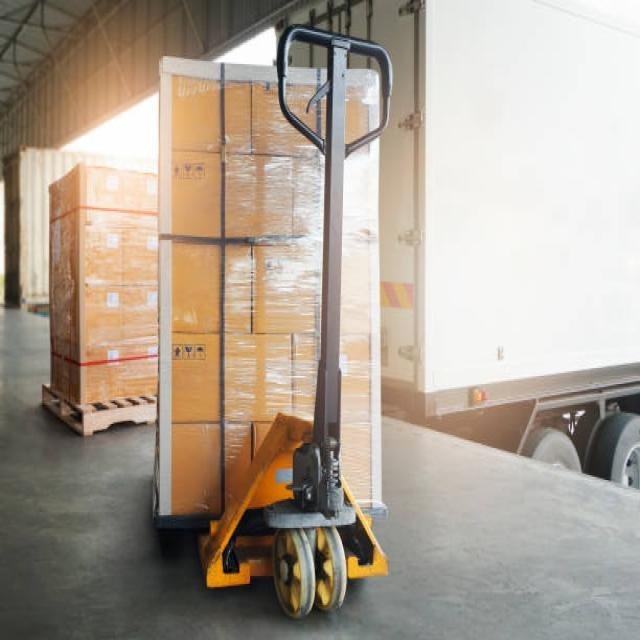Wooden-Pallets: (40, 383, 155, 442)
